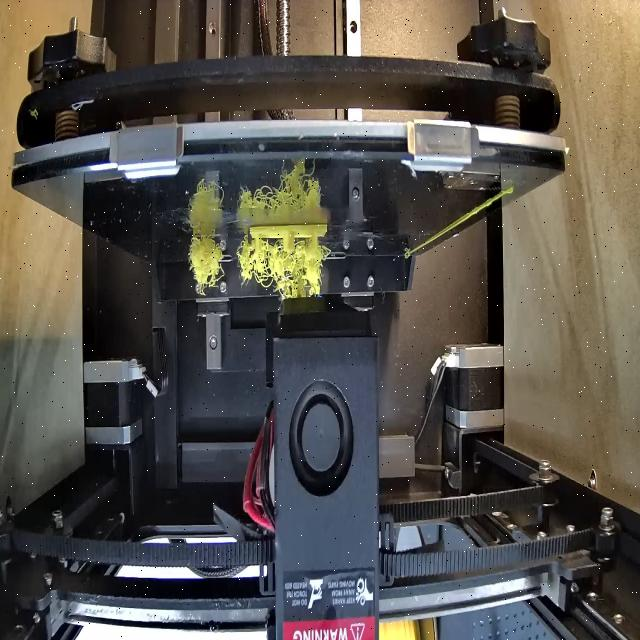spaghetti: (235, 243, 327, 300), (188, 234, 222, 288)
